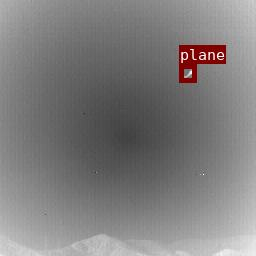plane: (179, 64, 196, 82)
